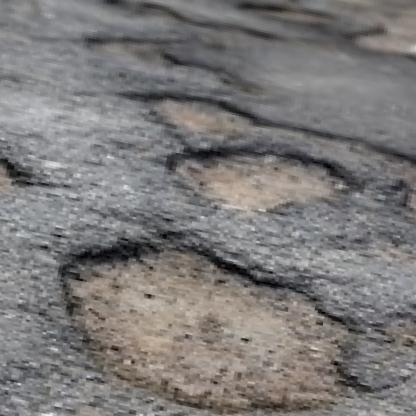pothole: (37, 214, 378, 416), (126, 86, 416, 251), (148, 123, 366, 239), (73, 23, 255, 95), (105, 0, 276, 48), (0, 126, 36, 236), (378, 298, 416, 395), (244, 0, 338, 30)
